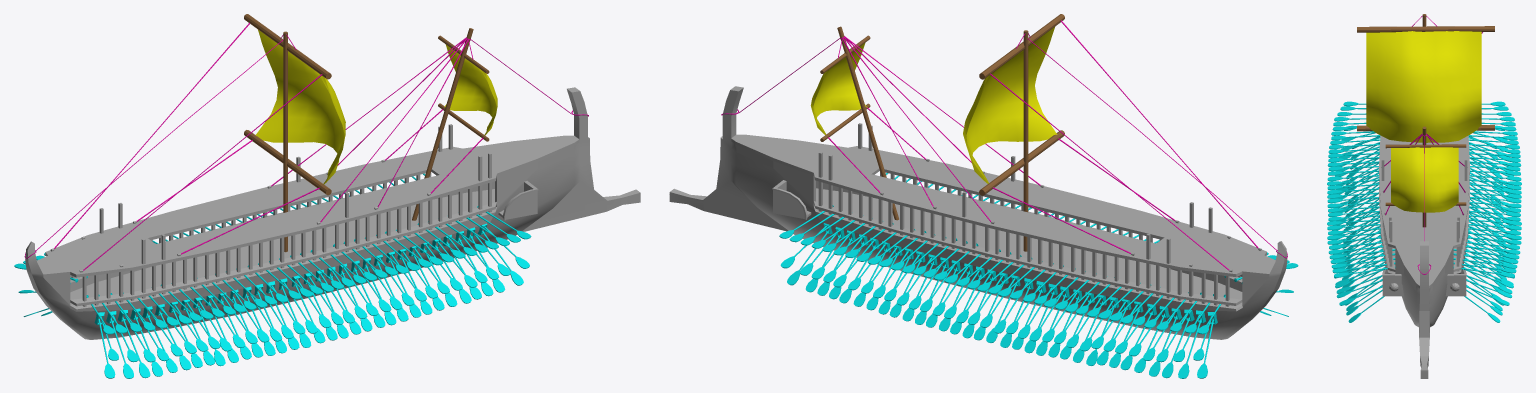
The model's file is Barco4Nuevo.fbx.
The picture shows the model from 3 angles, left to right: view 1: azimuth 30°, elevation 25°; view 2: azimuth 150°, elevation 25°; view 3: azimuth 270°, elevation 25°; orthographic projection. The views are drawn at different scales.
Parts seen in each view (by area): view 1: Barco4Nuevo; view 2: Barco4Nuevo; view 3: Barco4Nuevo.
Part boxes in pixels (bbox=[...]): Barco4Nuevo: bbox=[14, 14, 640, 378]; Barco4Nuevo: bbox=[669, 14, 1298, 378]; Barco4Nuevo: bbox=[1327, 14, 1521, 378].
Size of the model in its own units: 324107 by 139319 by 104441.
